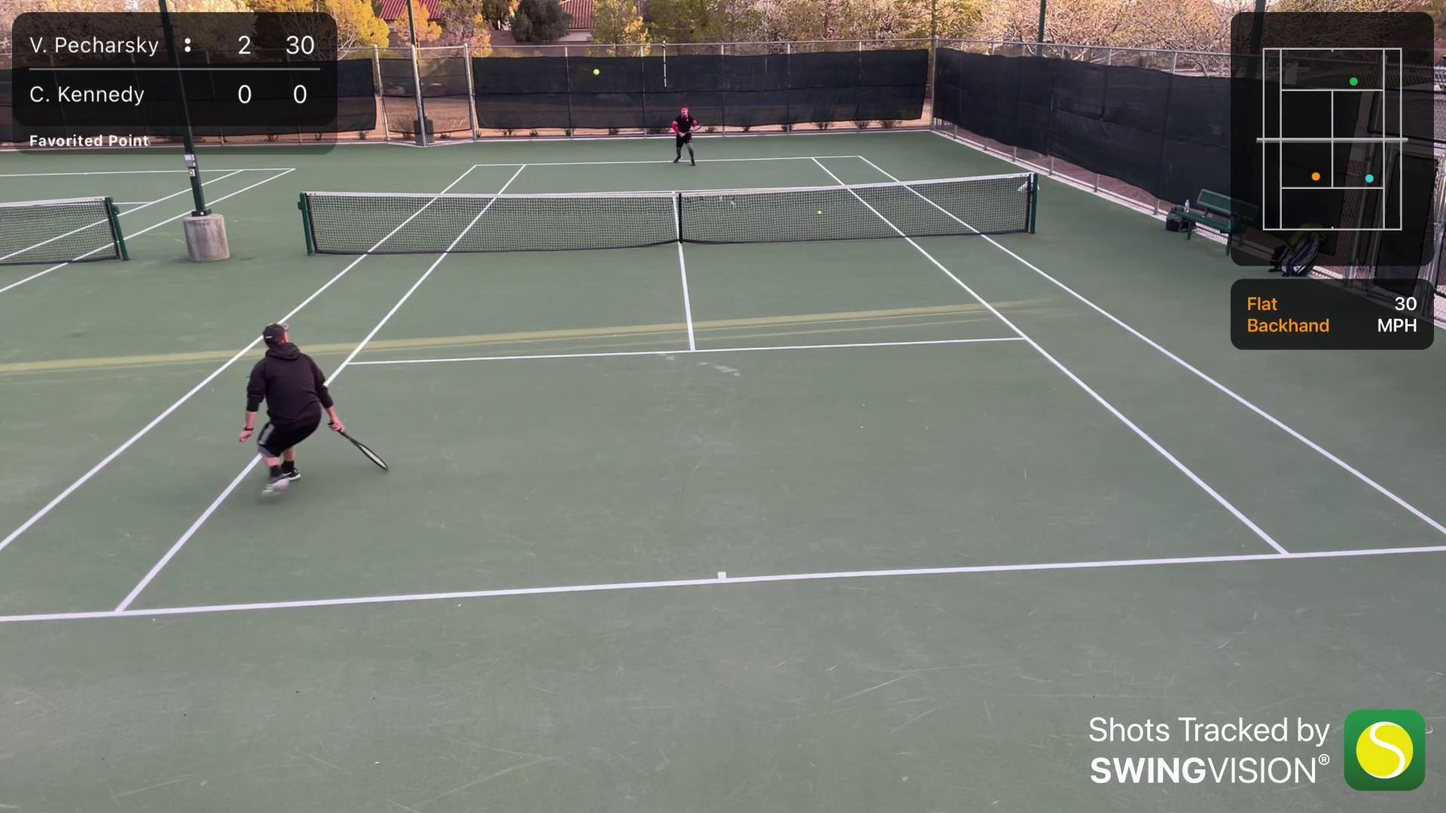ball: (592, 69, 600, 76), (816, 209, 823, 216)
